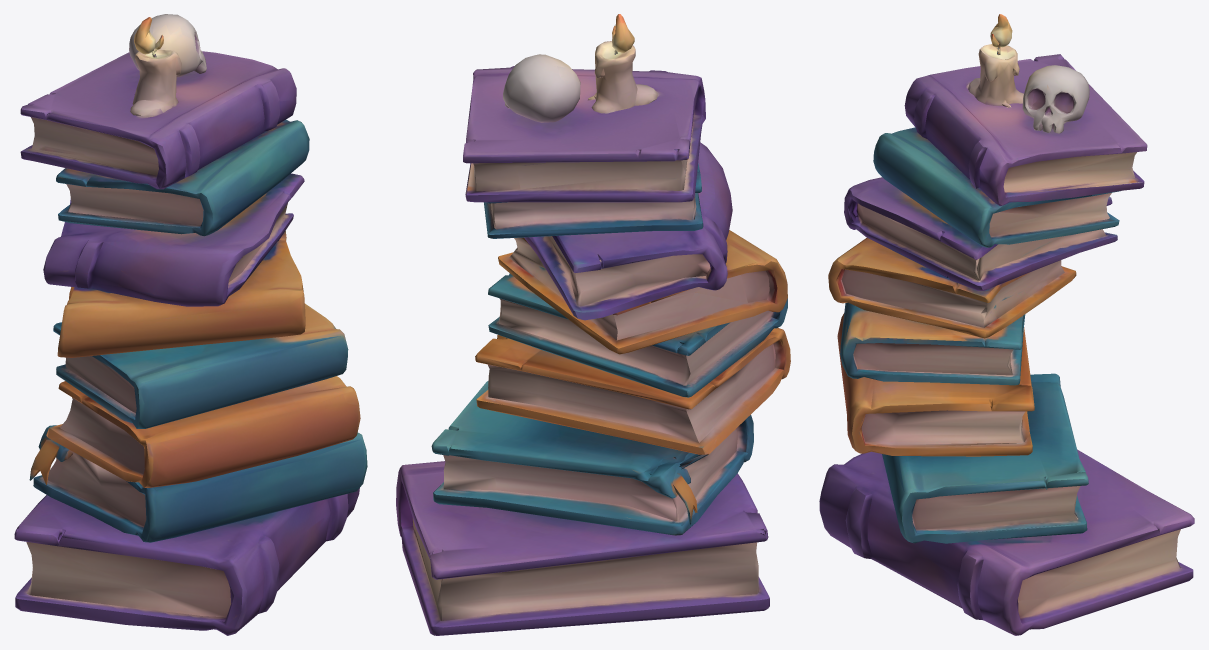
Rendered from S4_BookTower_LOD2.fbx.
The picture shows the model from 3 angles, left to right: view 1: azimuth 30°, elevation 25°; view 2: azimuth 150°, elevation 25°; view 3: azimuth 270°, elevation 25°; orthographic projection. The views are drawn at different scales.
Parts seen in each view (by area): view 1: S4_BookTower_LOD2; view 2: S4_BookTower_LOD2; view 3: S4_BookTower_LOD2.
Boxes of the visible parts, box(x1,y1,x2,y2) form: S4_BookTower_LOD2: box(14, 14, 367, 635); S4_BookTower_LOD2: box(396, 14, 790, 635); S4_BookTower_LOD2: box(819, 14, 1194, 635).
Size of the model in its own units: 1.73 by 2.6 by 1.67.
Materials: 1 (1 with a texture image).
